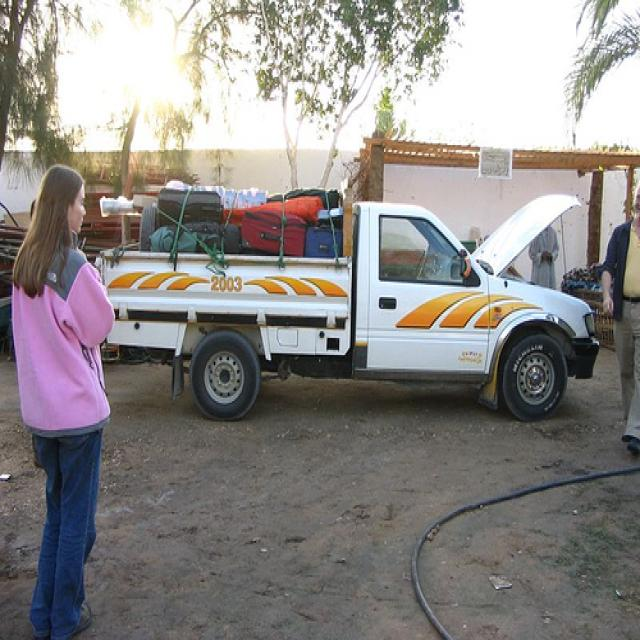Vehicle: (97, 175, 601, 422)
